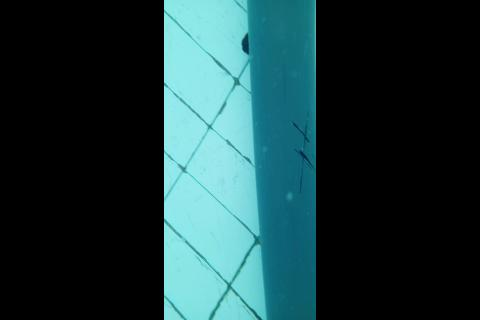keretakan: (291, 117, 315, 192)
